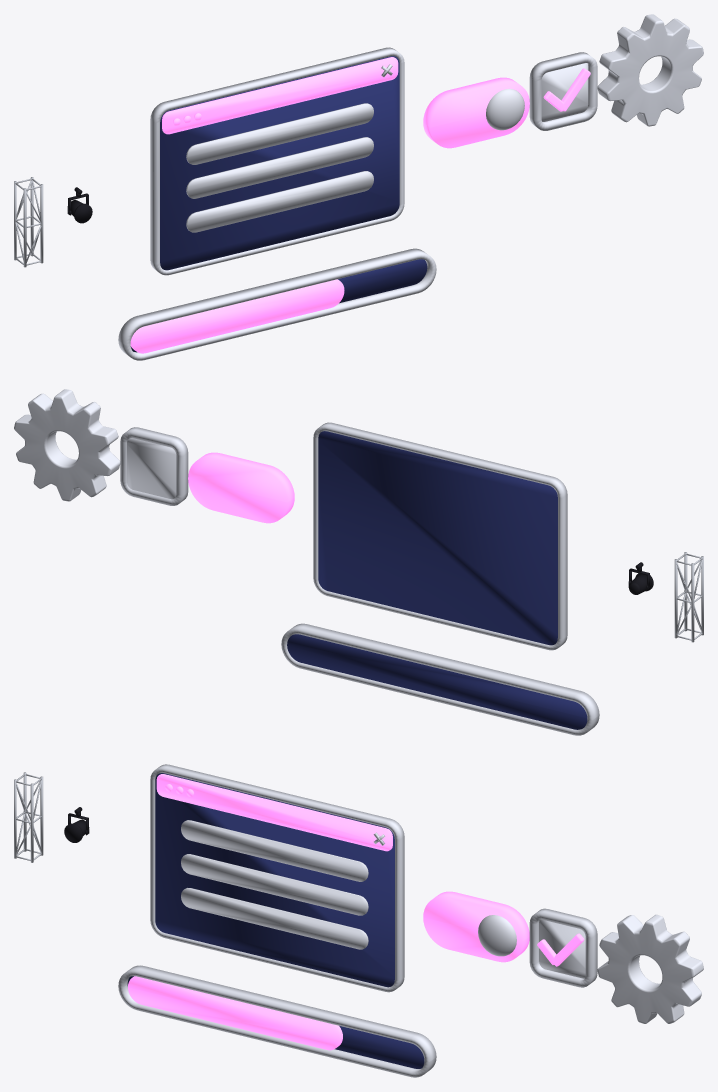
The model's file is PrologueKit.fbx.
3 views of the same model, one above another, from view 1: azimuth 30°, elevation 25°; view 2: azimuth 150°, elevation 25°; view 3: azimuth 330°, elevation 25° (orthographic).
Visible parts, largest first — view 1: PK_Window_Slate, PK_Window_Rows, PK_Gear_White, PK_Load_White, PK_Window_White, PK_Load_Pink, PK_Window_Pink, PK_Toggle_Pink, PK_Check_White, PK_Load_Slate, PK_Truss_Alu, PK_Toggle_White (+2 smaller); view 2: PK_Window_Slate, PK_Load_Slate, PK_Gear_White, PK_Window_White, PK_Load_White, PK_Toggle_Pink, PK_Check_White, PK_Truss_Alu, PK_Spot_Black; view 3: PK_Window_Slate, PK_Window_Rows, PK_Gear_White, PK_Load_White, PK_Window_White, PK_Load_Pink, PK_Window_Pink, PK_Toggle_Pink, PK_Check_White, PK_Load_Slate, PK_Truss_Alu, PK_Toggle_White (+2 smaller).
Part boxes in pixels (box(x1,y1,x2,y2)): PK_Window_Slate: box(160, 56, 399, 270); PK_Window_Rows: box(186, 64, 392, 232); PK_Gear_White: box(597, 14, 703, 126); PK_Load_White: box(118, 248, 436, 360); PK_Window_White: box(150, 47, 404, 275); PK_Load_Pink: box(130, 279, 344, 353); PK_Window_Pink: box(162, 57, 398, 134); PK_Toggle_Pink: box(423, 77, 529, 148); PK_Check_White: box(529, 52, 597, 130); PK_Load_Slate: box(130, 259, 427, 352); PK_Truss_Alu: box(14, 177, 43, 267); PK_Toggle_White: box(486, 88, 524, 130); PK_Window_Slate: box(318, 431, 557, 645); PK_Load_Slate: box(287, 634, 587, 729); PK_Gear_White: box(14, 389, 120, 501); PK_Window_White: box(313, 422, 567, 650); PK_Load_White: box(281, 623, 599, 735); PK_Toggle_Pink: box(188, 452, 294, 523); PK_Check_White: box(120, 427, 188, 505); PK_Truss_Alu: box(674, 552, 703, 642); PK_Spot_Black: box(628, 562, 653, 594); PK_Window_Slate: box(155, 773, 394, 987); PK_Window_Rows: box(181, 820, 384, 949); PK_Gear_White: box(597, 914, 703, 1023); PK_Load_White: box(118, 965, 436, 1077); PK_Window_White: box(150, 764, 404, 992); PK_Load_Pink: box(128, 976, 342, 1050); PK_Window_Pink: box(156, 774, 392, 851); PK_Toggle_Pink: box(423, 891, 529, 962); PK_Check_White: box(529, 908, 597, 987); PK_Load_Slate: box(127, 976, 424, 1068); PK_Truss_Alu: box(14, 772, 43, 862); PK_Toggle_White: box(478, 915, 516, 956).
Size of the model in its own units: 10937 by 3800 by 430.
